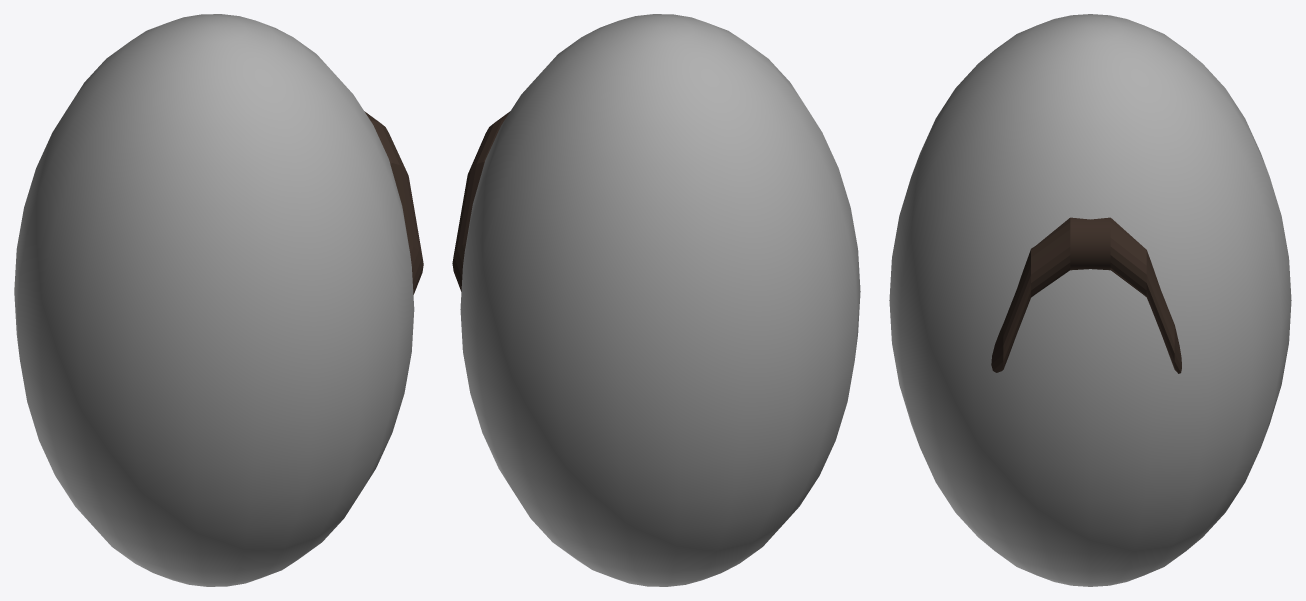
File: CharMustache.fbx
The picture shows the model from 3 angles, left to right: view 1: azimuth 30°, elevation 25°; view 2: azimuth 150°, elevation 25°; view 3: azimuth 270°, elevation 25°; orthographic projection.
Parts seen in each view (by area): view 1: pSphere1, pCylinder1; view 2: pSphere1, pCylinder1; view 3: pSphere1, pCylinder1.
Part boxes in pixels (x1=…): pSphere1: x1=14, y1=14, x2=414, y2=586; pCylinder1: x1=364, y1=111, x2=423, y2=294; pSphere1: x1=460, y1=14, x2=860, y2=586; pCylinder1: x1=452, y1=111, x2=510, y2=291; pSphere1: x1=889, y1=14, x2=1291, y2=586; pCylinder1: x1=991, y1=217, x2=1181, y2=373.
Bounding box in the file's own units: 2.88 × 4.32 × 2.88.
